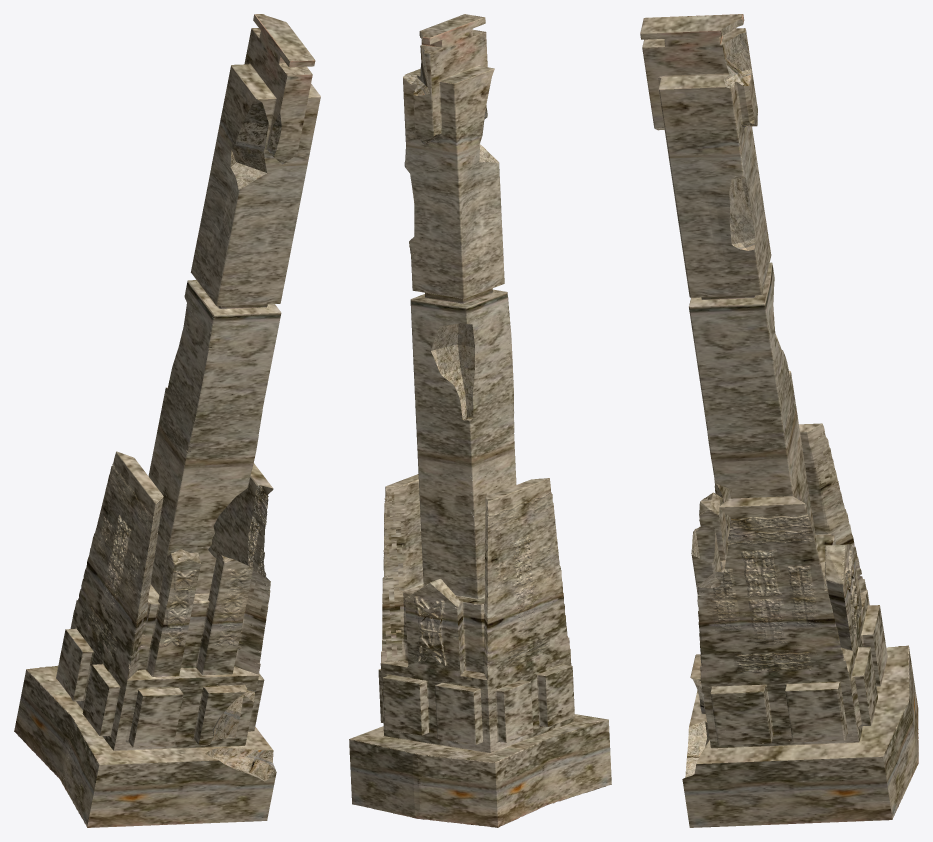
The model's file is pillar-transformed.glb.
The picture shows the model from 3 angles, left to right: view 1: azimuth 30°, elevation 25°; view 2: azimuth 150°, elevation 25°; view 3: azimuth 270°, elevation 25°; orthographic projection. The views are drawn at different scales.
Parts seen in each view (by area): view 1: Object_32; view 2: Object_32; view 3: Object_32.
Part boxes in pixels (bbox=[...]): Object_32: bbox=[14, 14, 320, 827]; Object_32: bbox=[349, 14, 611, 827]; Object_32: bbox=[640, 14, 918, 827].
Size of the model in its own units: 4.99 by 17.39 by 5.35.
Materials: 1 (1 with a texture image).
